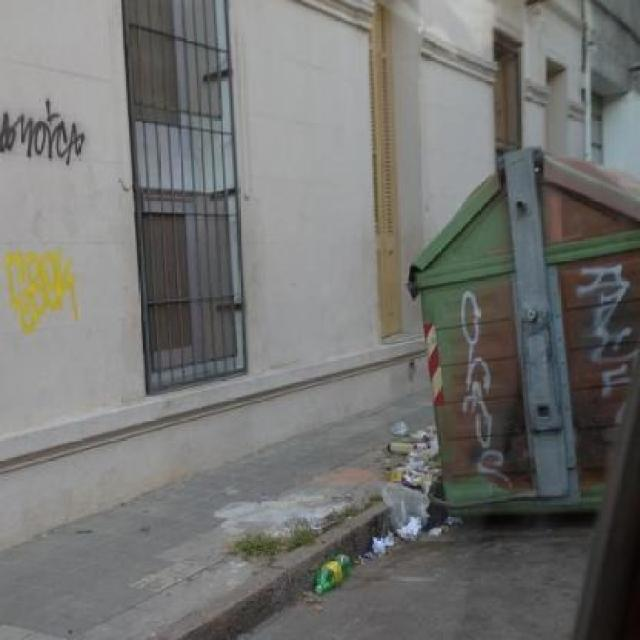garbage: (385, 399, 434, 562), (296, 536, 349, 605), (351, 533, 398, 560)
